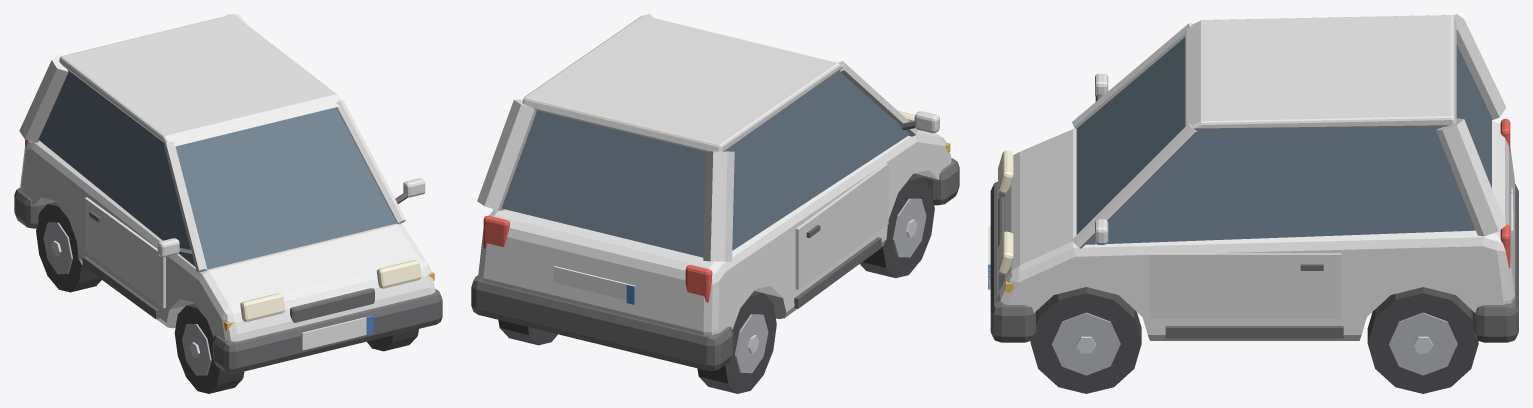
File: car-mini.glb
3 renders of one model, left to right at view 1: azimuth 30°, elevation 25°; view 2: azimuth 150°, elevation 25°; view 3: azimuth 270°, elevation 25°, orthographic. The views are drawn at different scales.
Parts seen in each view (by area): view 1: body, detach_bumper_front, detach_door_right, wheel-back-right, wheel-front-right, detach_bumper_back, wheel-front-left, detach_mirror_right, detach_mirror_left; view 2: body, detach_bumper_back, detach_door_right, wheel-front-right, wheel-back-right, detach_bumper_front, wheel-back-left, detach_mirror_right; view 3: body, detach_door_left, wheel-front-left, wheel-back-left, detach_bumper_front, detach_bumper_back.
Part boxes in pixels (x1,y1,x2,y2): body: [19, 14, 435, 341]; detach_bumper_front: [213, 289, 442, 373]; detach_door_right: [84, 197, 165, 308]; wheel-back-right: [36, 202, 101, 292]; wheel-front-right: [174, 303, 244, 393]; detach_bumper_back: [14, 187, 55, 228]; wheel-front-left: [367, 329, 418, 351]; detach_mirror_right: [157, 238, 192, 257]; detach_mirror_left: [395, 178, 425, 203]; body: [477, 14, 951, 335]; detach_bumper_back: [471, 275, 733, 370]; detach_door_right: [795, 163, 888, 289]; wheel-front-right: [860, 175, 934, 278]; wheel-back-right: [697, 291, 776, 393]; detach_bumper_front: [912, 158, 959, 205]; wheel-back-left: [498, 320, 557, 345]; detach_mirror_right: [901, 111, 939, 133]; body: [997, 14, 1514, 340]; detach_door_left: [1149, 253, 1340, 318]; wheel-front-left: [1030, 287, 1141, 393]; wheel-back-left: [1367, 287, 1478, 393]; detach_bumper_front: [988, 182, 1036, 342]; detach_bumper_back: [1473, 184, 1518, 342].
Size of the model in its own units: 1.94 by 1.55 by 2.77.
